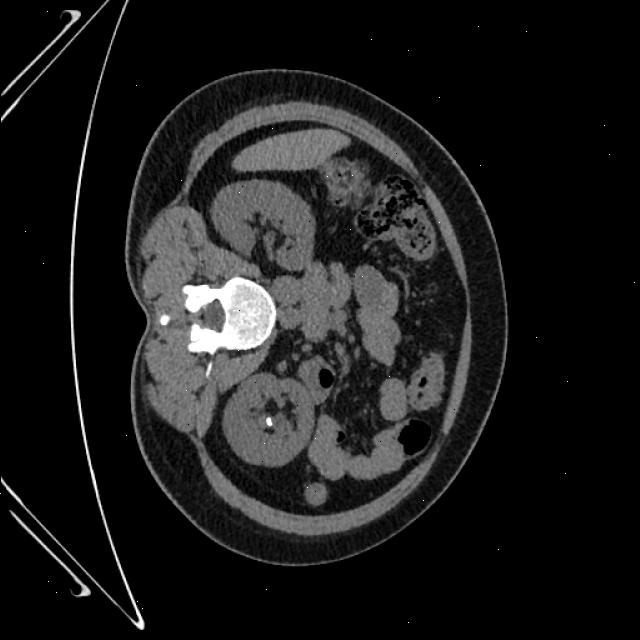kidneystone: (265, 418, 271, 428), (264, 418, 271, 426)
